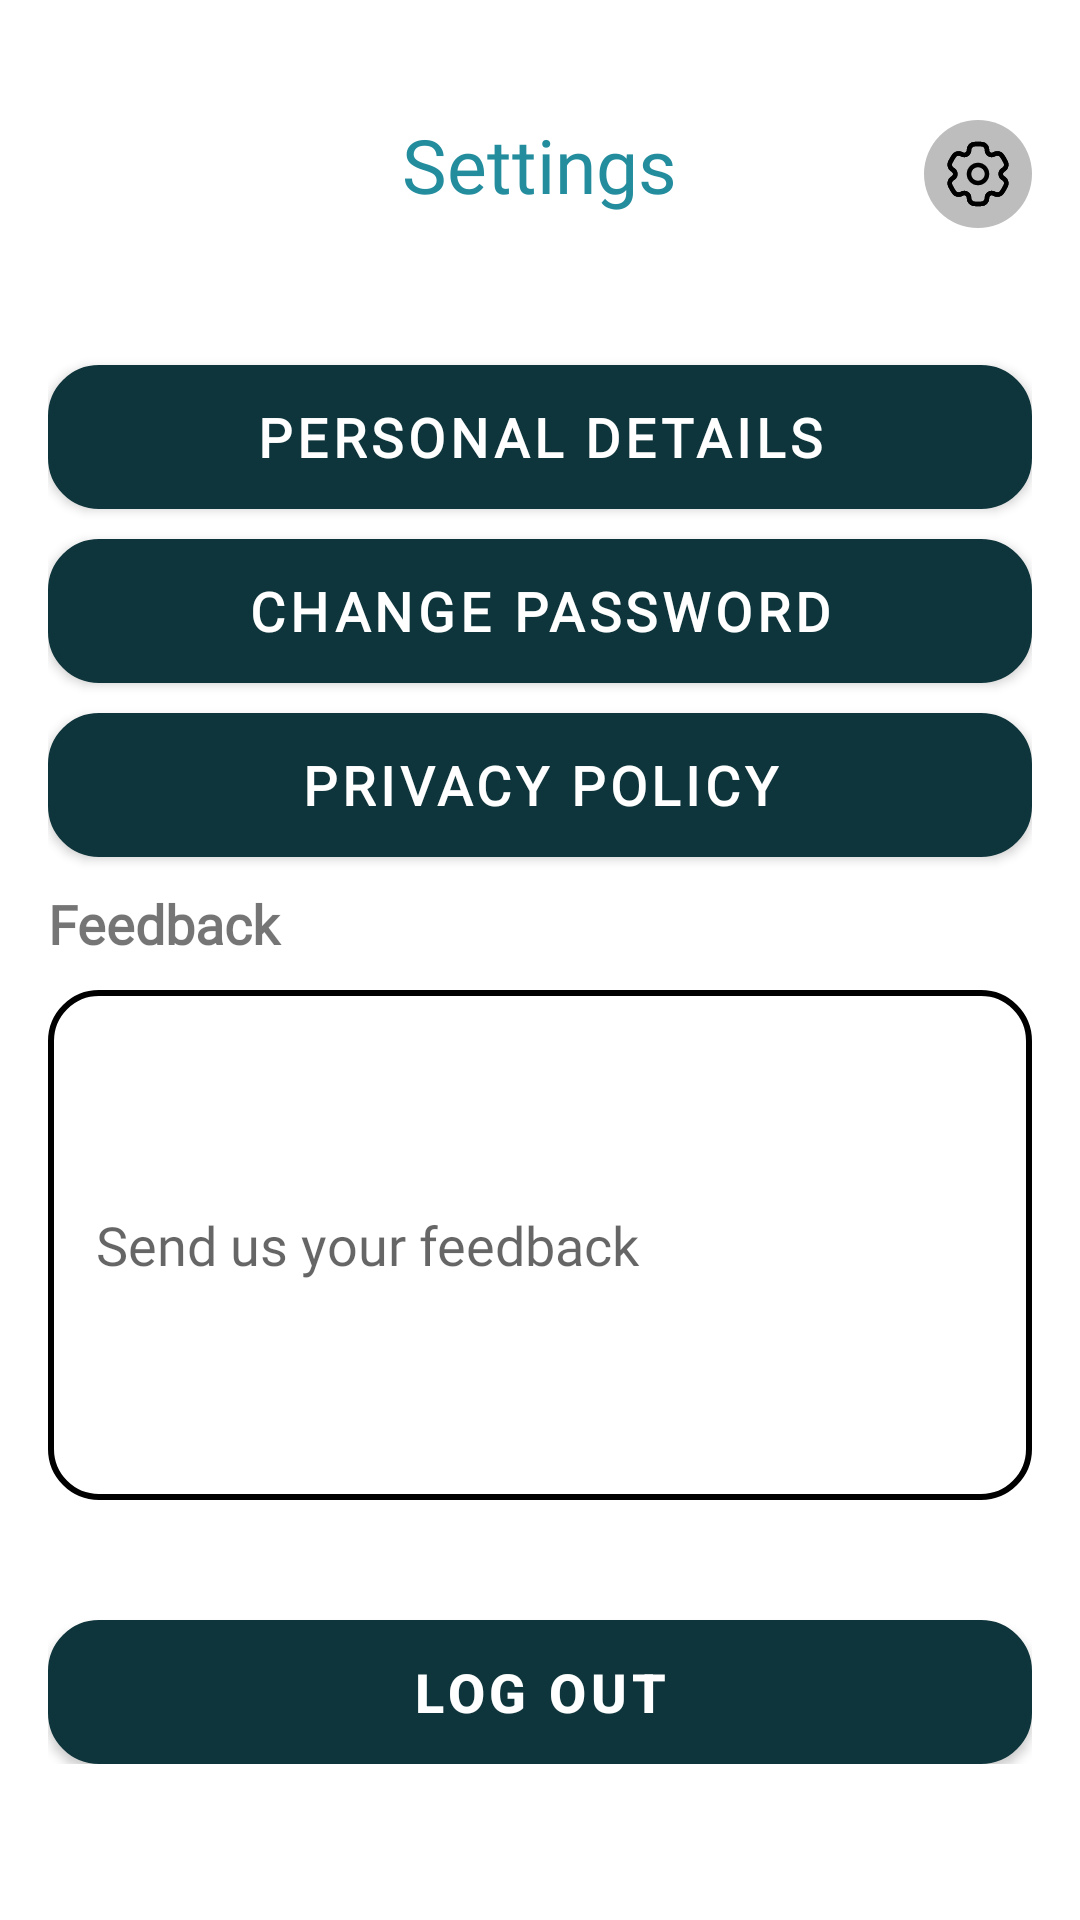

Where to tap for icons on this 1080*1920 app screen, as point (x, y):
settings: point (978, 174)
